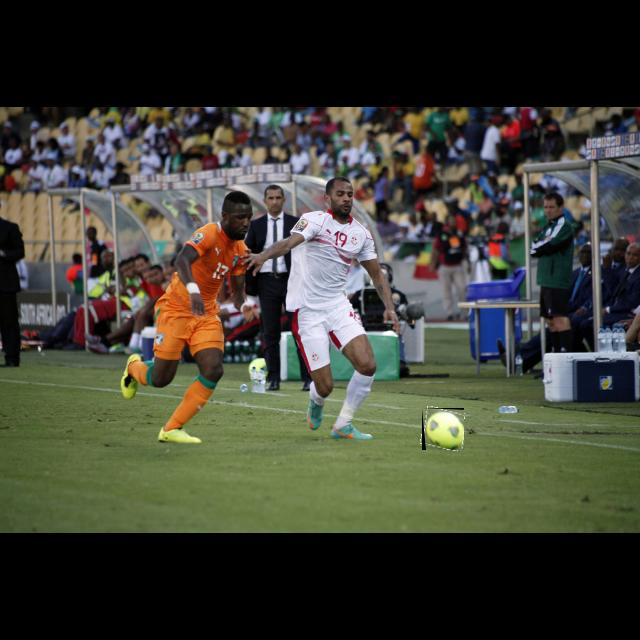Football: (422, 408, 464, 450)
